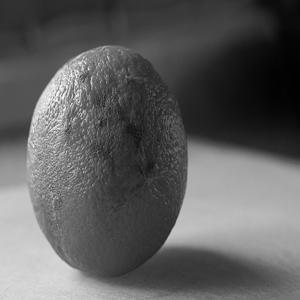fruit: (13, 40, 199, 277)
